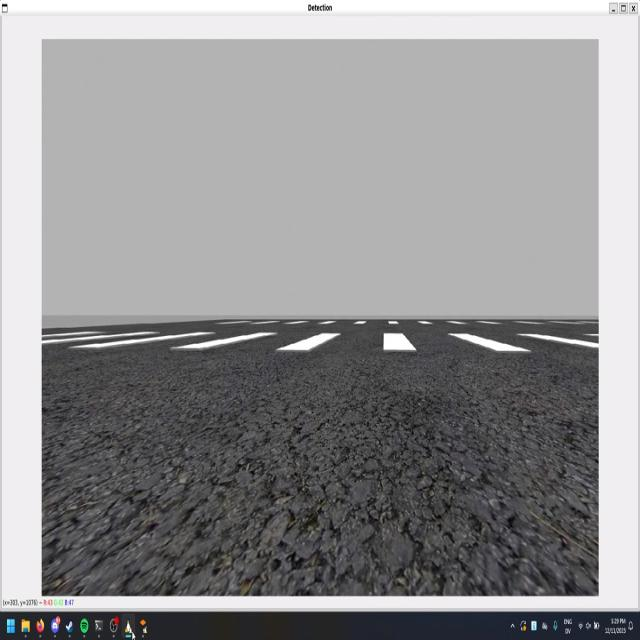crosswalk: (43, 329, 598, 353)
